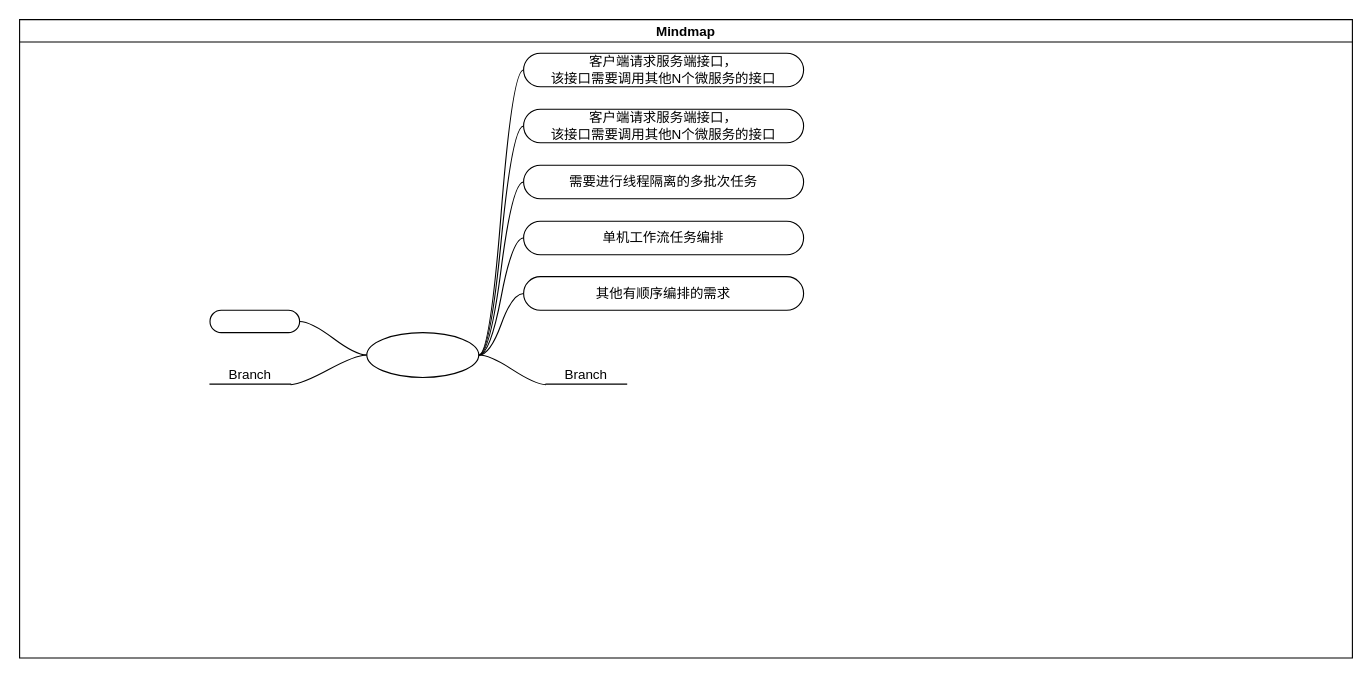
Some shapes in this 1372 by 678 pixel diagram are drawn without their labels. Each missing label, with the box of its shape:
Topic: (209, 309, 300, 333)
并行: (366, 332, 479, 377)
